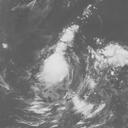cyclone: (32, 43, 78, 106)
